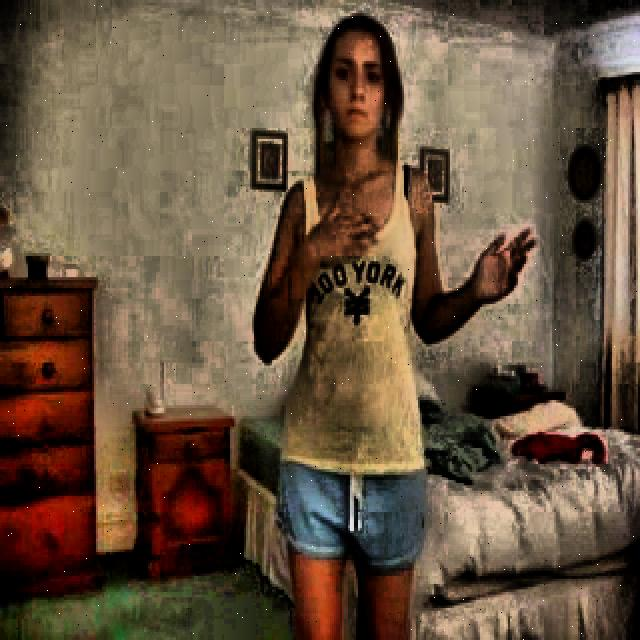F: (248, 10, 510, 640)
